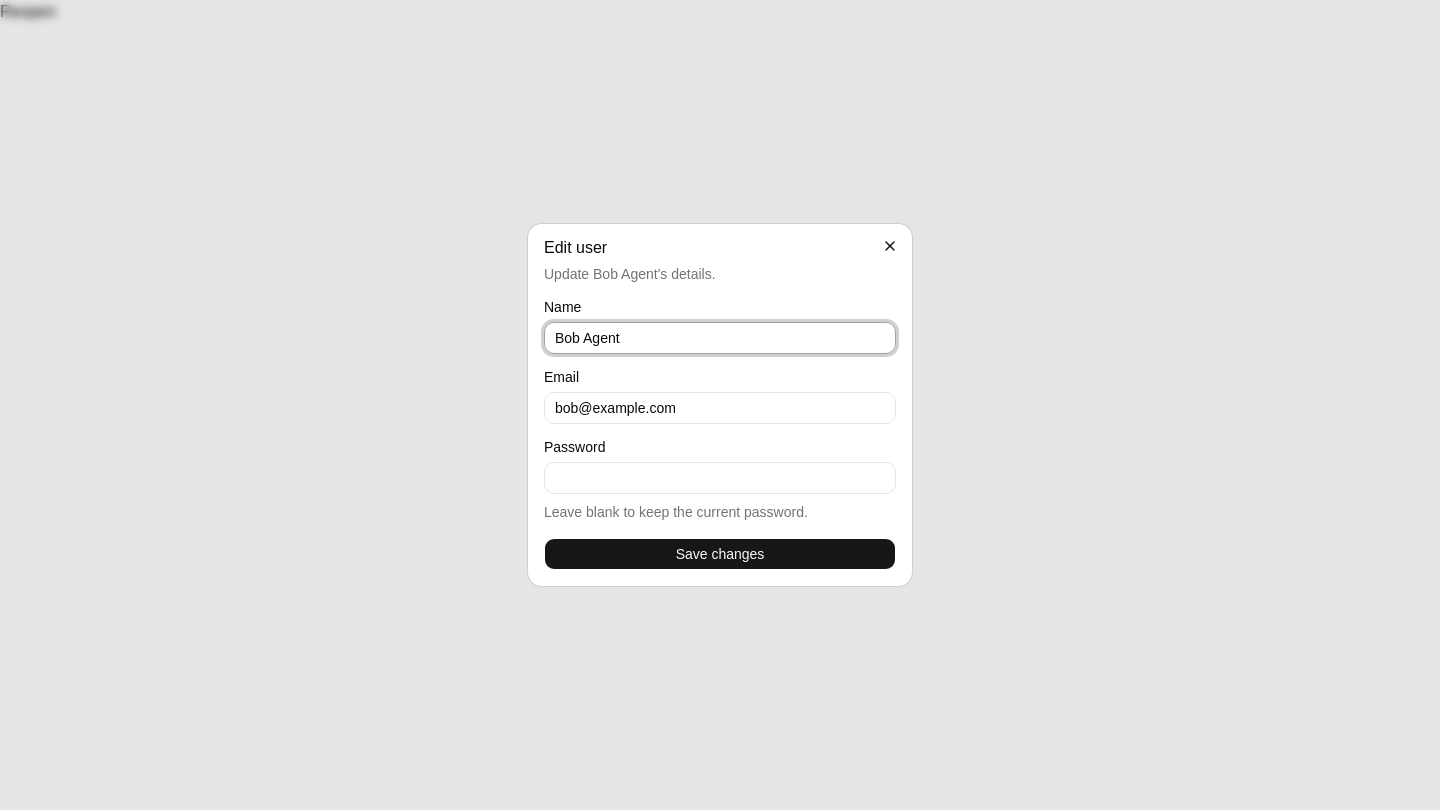
UserDialog › closes after a successful save
Click the button "Save changes": [720, 554] box [544, 538, 896, 570]
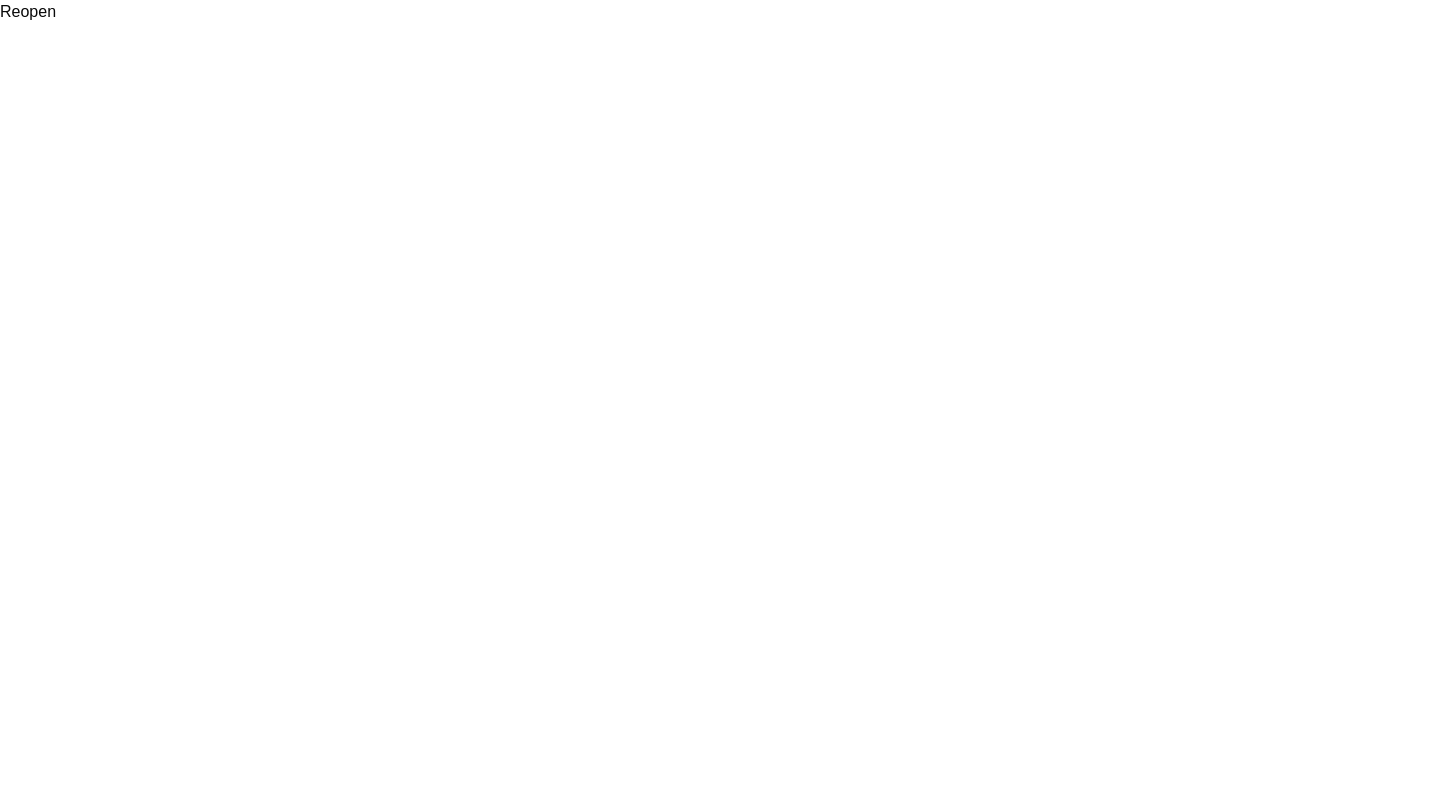
Result: the dialog is gone
